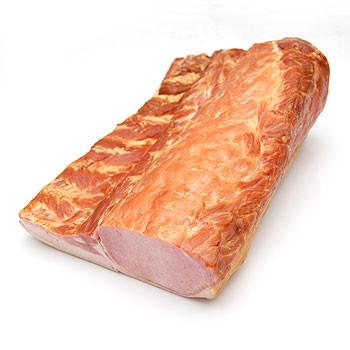bacon: (28, 29, 324, 303)
